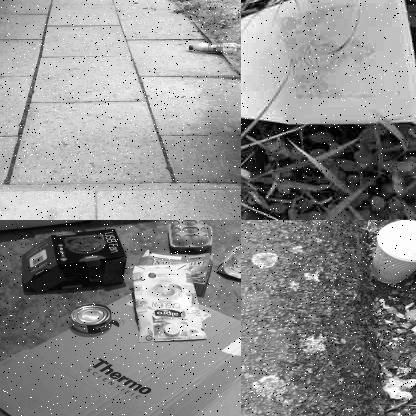cardboard: (0, 291, 240, 415), (15, 226, 131, 292), (140, 250, 212, 290), (168, 220, 217, 249)
metal: (63, 300, 114, 334)
plastic: (241, 0, 415, 131), (130, 264, 208, 341), (369, 220, 415, 286), (184, 32, 240, 58)
